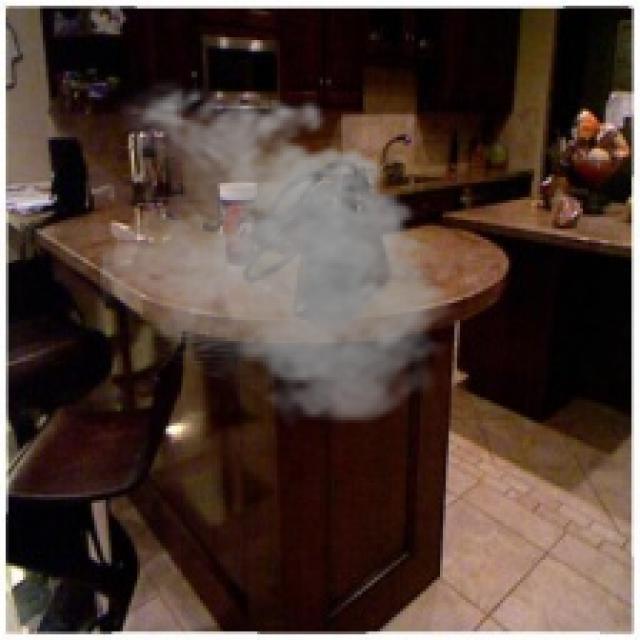smoke: (97, 77, 463, 432)
